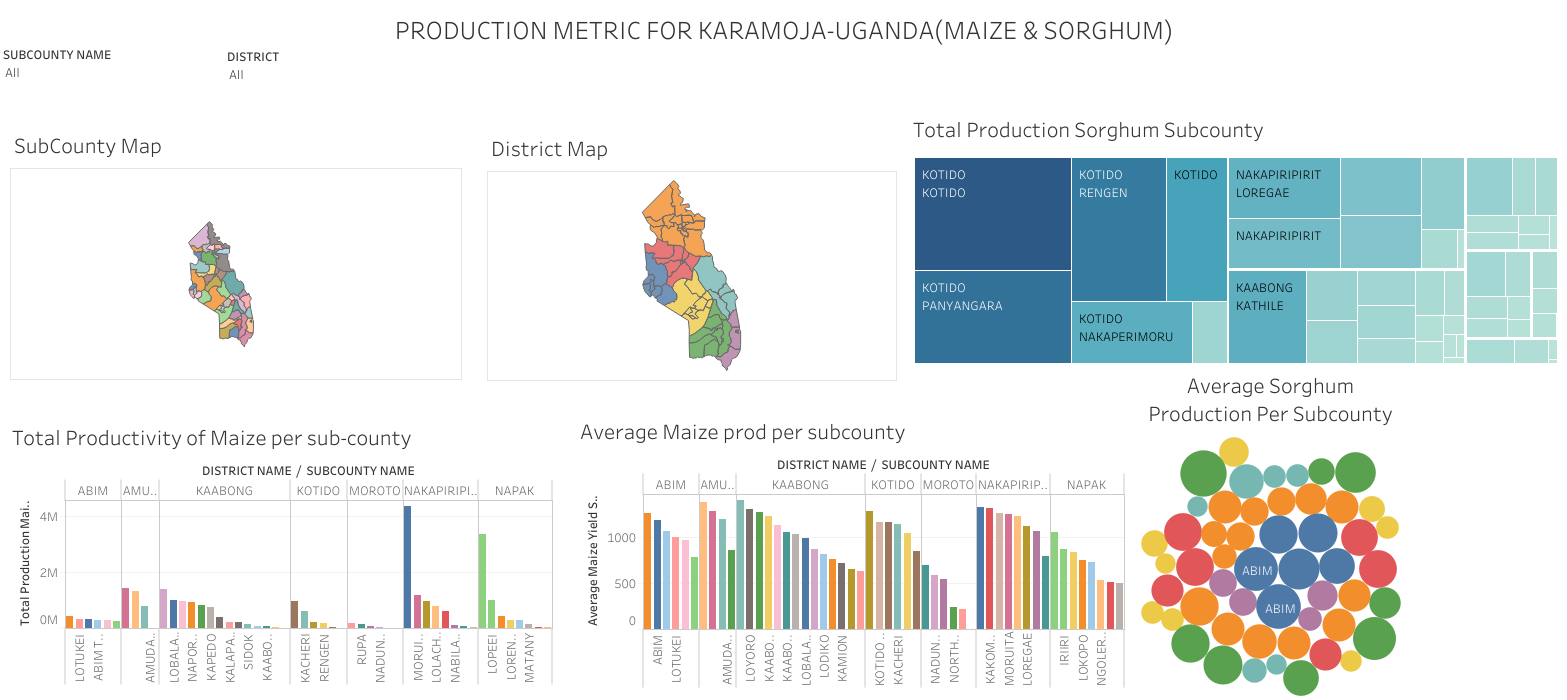

The page's visual inventory and layout, read from the dashboard file:
{"tool":"tableau","page":{"name":"Dashboard 1","canvas":[1000,1000],"units":"permille","ordinal":0},"visuals":[{"type":"title","box":[5.8,10.5,988.5,55]},{"type":"filter","title":"Sub-county Map","param":"[federated.1hkz76c0cdg1zr0zog8sb0xyqg2k].[none:SUBCOUNTY_NAME (Uganda!Karamoja!S","box":[2.2,62.8,115.2,108.6]},{"type":"filter","title":"District Map","param":"[federated.1hkz76c0cdg1zr0zog8sb0xyqg2k].[none:DISTRICT_NAME (Uganda!Karamoja!Su","box":[144.7,65.5,115.2,75.9]},{"type":"worksheet","title":"Total Production Sorghum Subcounty","mark":"Automatic","box":[579.6,155.8,416.9,370.4]},{"type":"worksheet","title":"Sub-county Map","mark":"Automatic","box":[6.5,178,288,363.9]},{"type":"worksheet","title":"District Map","mark":"Automatic","box":[310.3,181.9,262.1,361.3]},{"type":"worksheet","title":"Average Sorghum Production Subcounty","mark":"Circle","box":[727.1,520.9,264.2,473.8]},{"type":"worksheet","title":"Average Maize prod per subcounty","mark":"Automatic","rows":["M_Yield_Ha (Uganda!Karamoja!Subcounty!Crop!1)"],"cols":["DISTRICT_NAME (Uganda!Karamoja!Subcounty!Crop!1)","SUBCOUNTY_NAME (Uganda!Karamoja!Subcounty!Crop!1)"],"box":[367.2,586.4,350.6,396.6]},{"type":"worksheet","title":"Total Productivity of Maize per sub-county","mark":"Automatic","rows":["M_Prod_Tot (Uganda!Karamoja!Subcounty!Crop!1)"],"cols":["DISTRICT_NAME (Uganda!Karamoja!Subcounty!Crop!1)","SUBCOUNTY_NAME (Uganda!Karamoja!Subcounty!Crop!1)"],"box":[5,594.2,348.4,384.8]}]}

Visuals, with their boxes on the dashboard's canvas, which has no fixed pixel size, in thousandths of its width and height (x1, y1, x2, y2). These are canvas units, not pixel positions in the 1567x700 screenshot, which may show the page scaled, cropped or inside an application window:
title: crop(6, 10, 994, 66)
"Sub-county Map" filter: crop(2, 63, 117, 171)
"District Map" filter: crop(145, 66, 260, 141)
"Total Production Sorghum Subcounty" worksheet: crop(580, 156, 996, 526)
"Sub-county Map" worksheet: crop(6, 178, 294, 542)
"District Map" worksheet: crop(310, 182, 572, 543)
"Average Sorghum Production Subcounty" worksheet (Circle marks): crop(727, 521, 991, 995)
"Average Maize prod per subcounty" worksheet: crop(367, 586, 718, 983)
"Total Productivity of Maize per sub-county" worksheet: crop(5, 594, 353, 979)
